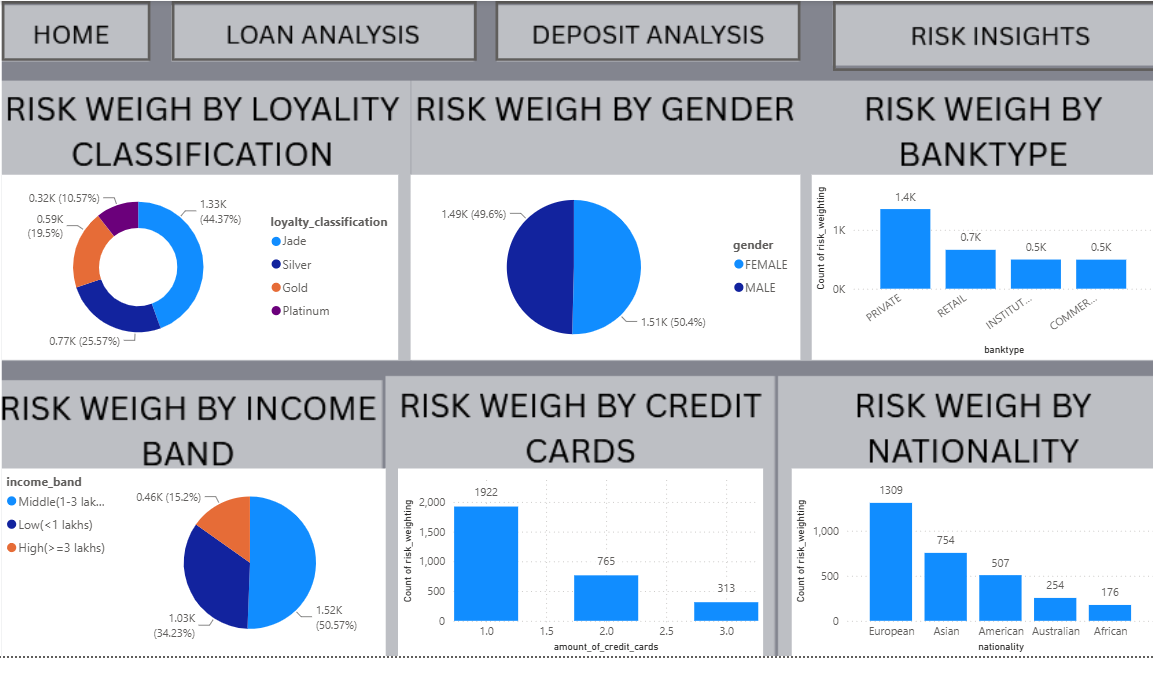

Layout of this report page (visuals, bound fields, positions):
{"tool":"powerbi","page":{"name":"risk insights","canvas":[1280,720],"ordinal":4},"visuals":[{"type":"image","box":[9.6,0,1270.7,720.4],"z":0},{"type":"donutChart","fields":{"Category":["public banking_data.loyalty_classification"],"Y":["CountNonNull(public banking_data.risk_weighting)"]},"box":[9.6,190.7,435,203.1],"z":1000},{"type":"pieChart","fields":{"Category":["public banking_data.gender"],"Y":["CountNonNull(public banking_data.risk_weighting)"]},"box":[458.3,190.7,428.1,203.1],"z":2000},{"type":"clusteredColumnChart","fields":{"Category":["public banking_data.banktype"],"Y":["CountNonNull(public banking_data.risk_weighting)"]},"box":[898.8,190.7,381.5,203.1],"z":3000},{"type":"pieChart","fields":{"Category":["public banking_data.income_band"],"Y":["CountNonNull(public banking_data.risk_weighting)"]},"box":[9.6,513.2,421.3,207.2],"z":4000},{"type":"lineStackedColumnComboChart","fields":{"Y":["CountNonNull(public banking_data.risk_weighting)"],"Category":["public banking_data.amount_of_credit_cards"]},"box":[444.6,513.2,400.7,207.2],"z":5000},{"type":"clusteredColumnChart","fields":{"Category":["public banking_data.nationality"],"Y":["CountNonNull(public banking_data.risk_weighting)"]},"box":[876.8,513.2,403.4,207.2],"z":6000},{"type":"actionButton","box":[9.6,0,163.3,65.9],"z":7000},{"type":"actionButton","box":[196.2,0,334.8,65.9],"z":8000},{"type":"actionButton","box":[551.6,0,334.8,65.9],"z":9000},{"type":"actionButton","box":[922.1,0,358.1,76.8],"z":10000}]}

Visuals, with their boxes on the page's 1280x720 design canvas (x1, y1, x2, y2). These are canvas units, not pixel positions in the 1153x681 screenshot, which may show the page scaled, cropped or inside an application window:
image: [left=10, top=0, right=1280, bottom=720]
donutChart - public banking_data.loyalty_classification x CountNonNull(public banking_data.risk_weighting): [left=10, top=191, right=445, bottom=394]
pieChart - public banking_data.gender x CountNonNull(public banking_data.risk_weighting): [left=458, top=191, right=886, bottom=394]
clusteredColumnChart - public banking_data.banktype x CountNonNull(public banking_data.risk_weighting): [left=899, top=191, right=1280, bottom=394]
pieChart - public banking_data.income_band x CountNonNull(public banking_data.risk_weighting): [left=10, top=513, right=431, bottom=720]
lineStackedColumnComboChart - CountNonNull(public banking_data.risk_weighting) x public banking_data.amount_of_credit_cards: [left=445, top=513, right=845, bottom=720]
clusteredColumnChart - public banking_data.nationality x CountNonNull(public banking_data.risk_weighting): [left=877, top=513, right=1280, bottom=720]
actionButton: [left=10, top=0, right=173, bottom=66]
actionButton: [left=196, top=0, right=531, bottom=66]
actionButton: [left=552, top=0, right=886, bottom=66]
actionButton: [left=922, top=0, right=1280, bottom=77]
